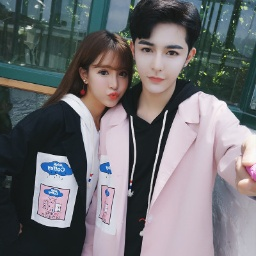face: (130, 1, 200, 92), (68, 30, 133, 109)
